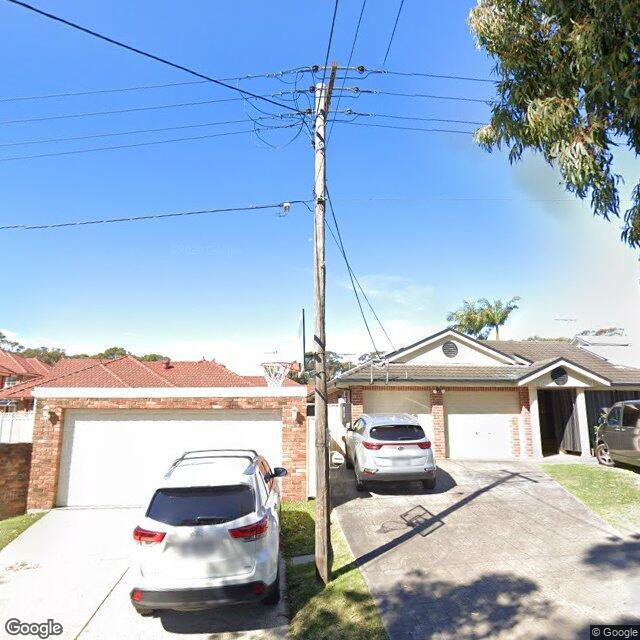crossarm: (322, 64, 338, 118)
timber-pole: (313, 82, 329, 587)
